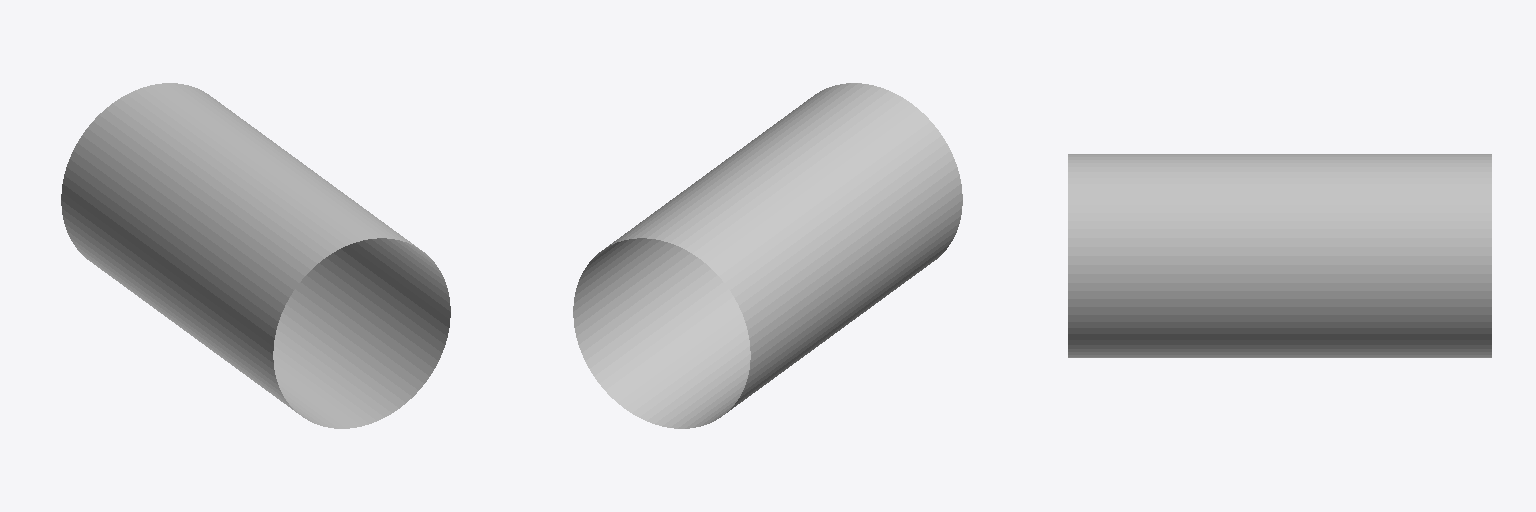
File: Strips_Barrel_passives_l4.obj
3 views of the same model, side by side, from view 1: azimuth 30°, elevation 25°; view 2: azimuth 150°, elevation 25°; view 3: azimuth 270°, elevation 25° (orthographic).
Bounding box in the file's own units: 1328 × 1328 × 2748.